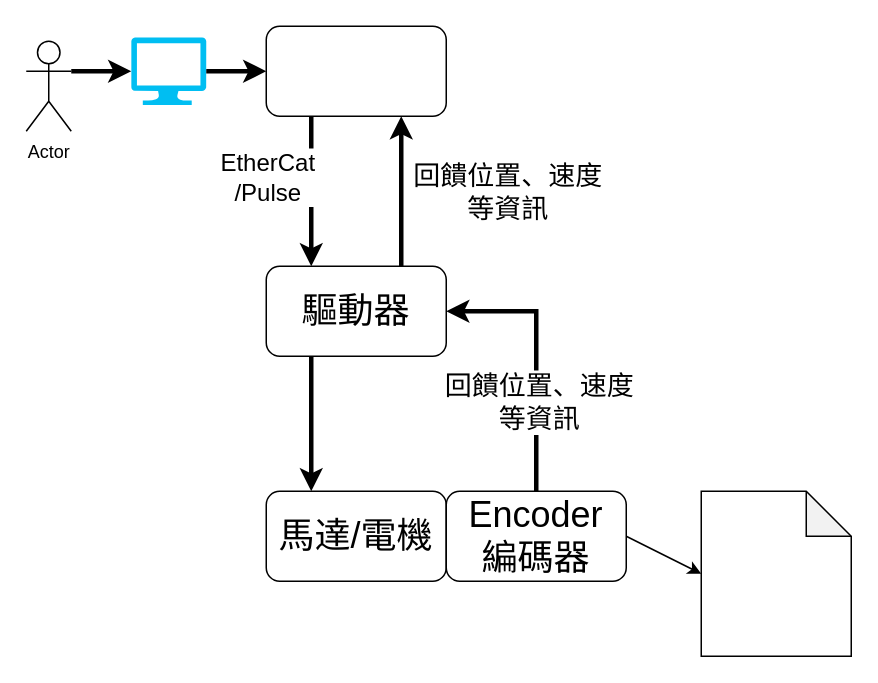
The diagram is 878 pixels wide and 683 high, and some of its shapes have lost their labels. Here are the shapes that lost their labels. From the top down, the centre of each, then its label:
At pixel 355 70: "控制器 /上位機".
At pixel 775 573: "光學/ 磁電/電容編碼器".
